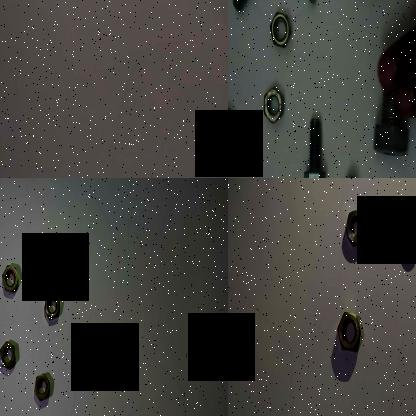Bolts: (300, 107, 330, 178)
NUTS: (336, 308, 362, 354), (264, 6, 290, 50), (260, 83, 284, 129), (343, 207, 367, 246), (228, 102, 240, 164), (0, 261, 18, 297), (42, 290, 62, 322), (31, 370, 51, 402), (0, 338, 17, 373), (401, 227, 416, 261)
